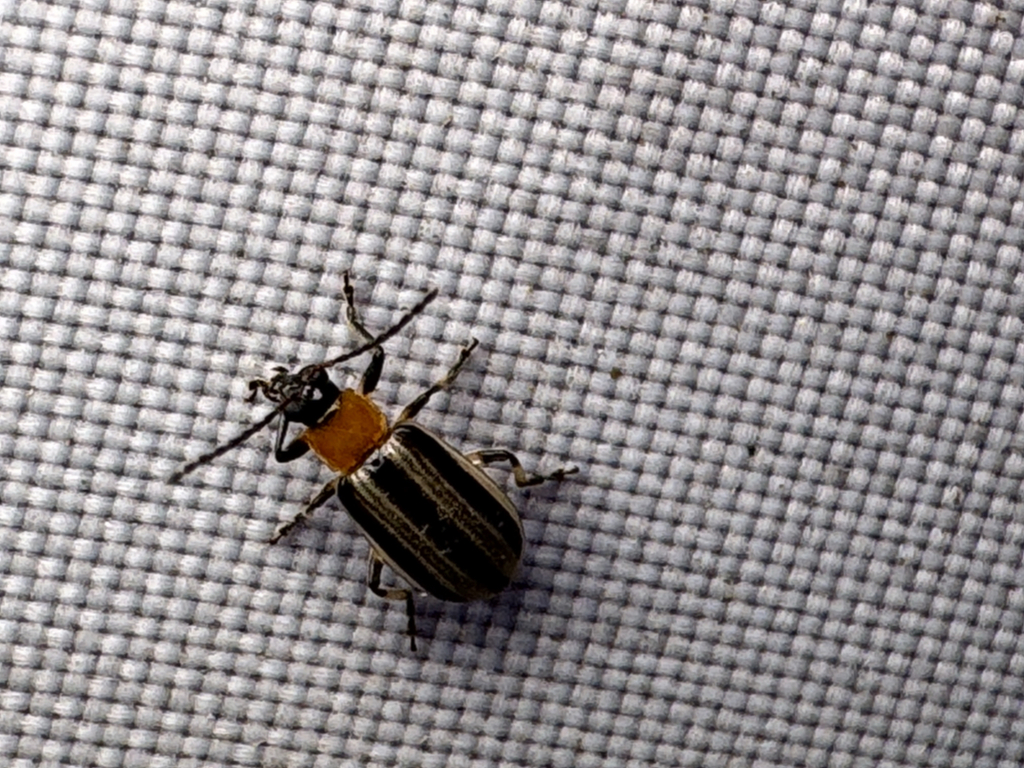potato_beetle: (84, 205, 663, 754)
